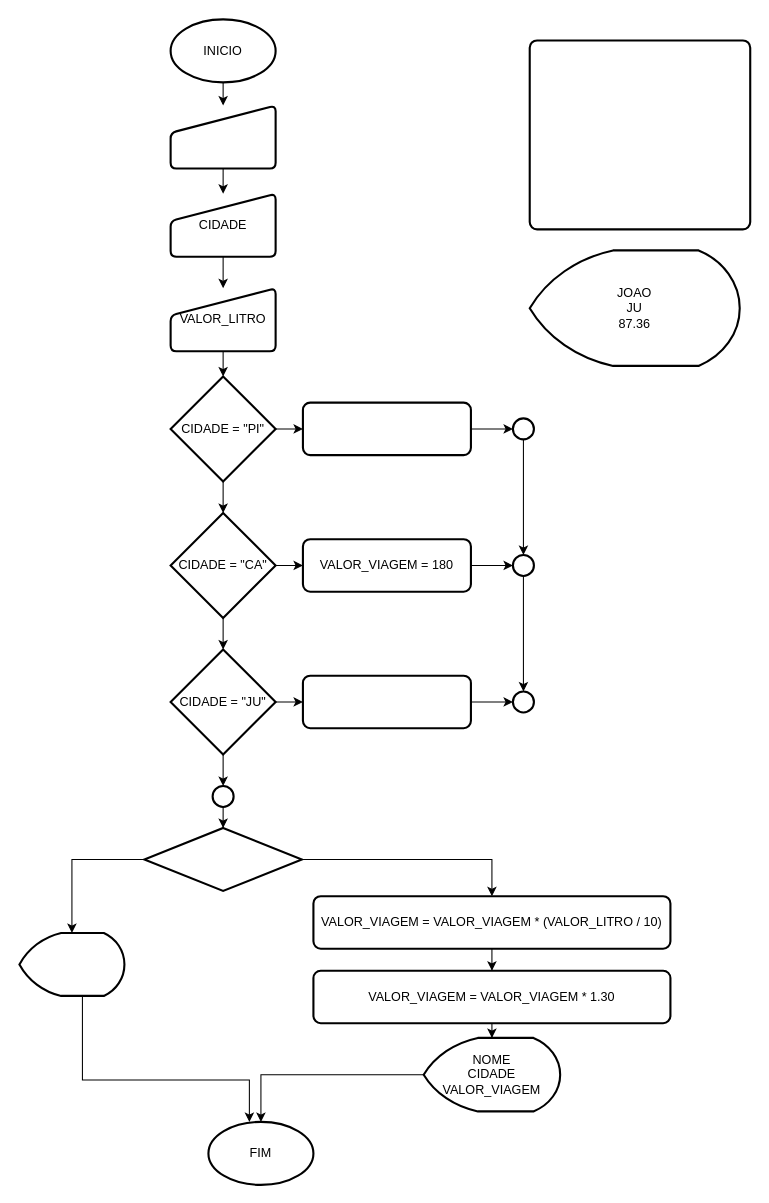
Some shapes in this 769 by 1203 pixel diagram are drawn without their labels. Each missing label, with the centre of its shape:
"CIDADE INVALIDA" belongs at [71,963].
"NOME" belongs at [222,136].
"NOME JOAO CIDADE JU VALOR_LITRO 5.60 VALOR_VIAGEM 120 67.2 87.36" belongs at [639,134].
"VALOR_VIAGEM = 120" belongs at [386,701].
"VALOR_VIAGEM = 220" belongs at [386,428].
"VALOR_VIAGEM > 0" belongs at [222,858].
